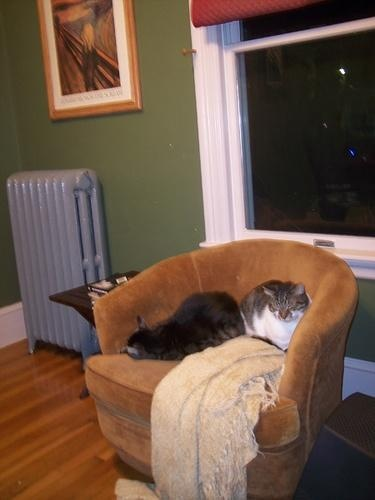cat: (122, 291, 248, 362), (242, 277, 312, 348)
chair: (82, 238, 360, 498)
